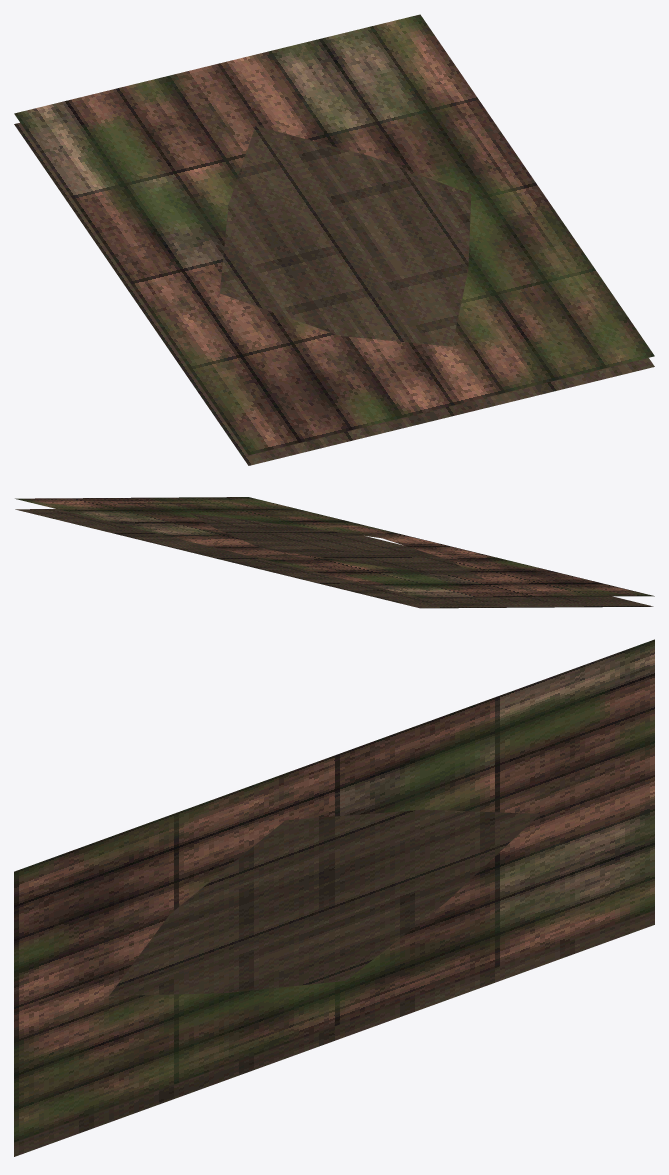
The model's file is roof_slope_broken.gltf.
3 views of the same model, one above another, from view 1: azimuth 30°, elevation 25°; view 2: azimuth 150°, elevation 25°; view 3: azimuth 270°, elevation 25° (orthographic). The views are drawn at different scales.
Parts seen in each view (by area): view 1: roof_slope_broken-col; view 2: roof_slope_broken-col; view 3: roof_slope_broken-col.
Part boxes in pixels (<box>): roof_slope_broken-col: <box>14,14,654,465</box>; roof_slope_broken-col: <box>15,497,654,608</box>; roof_slope_broken-col: <box>14,639,654,1156</box>.
Bounding box in the file's own units: 2 × 0.862 × 2.
3 materials, 3 textured.
